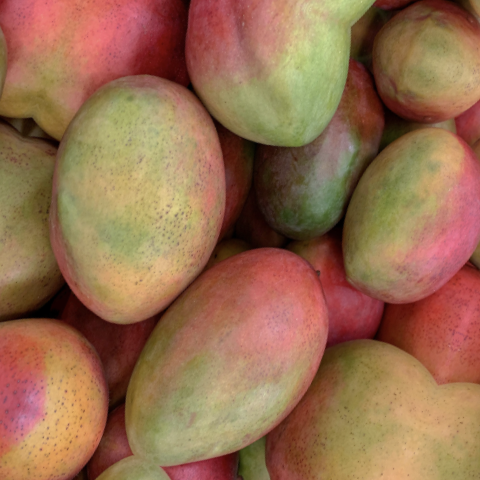mango: (71, 176, 402, 480), (0, 39, 277, 354), (147, 0, 386, 180), (310, 111, 480, 332)
